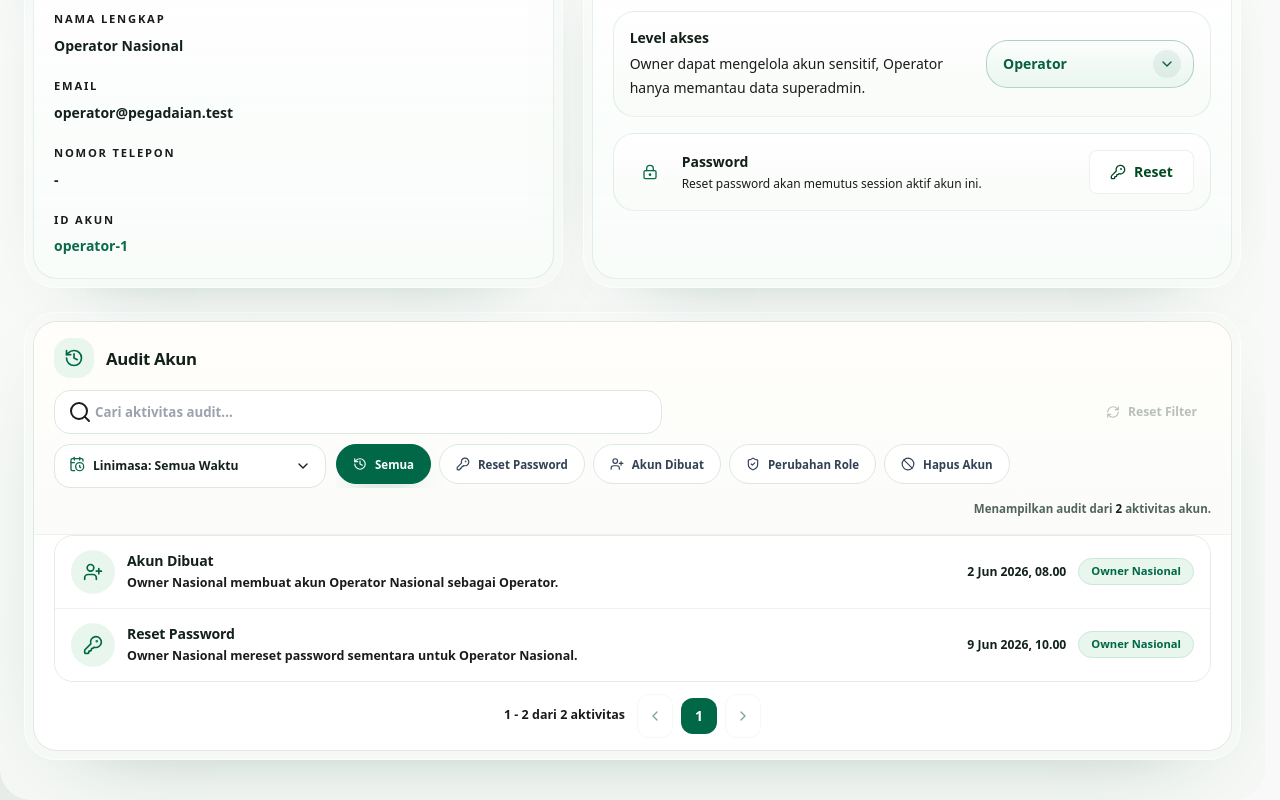
it: SuperAdminAccountWorkspace › renders account audit as a compact filterable list
The image size is (1280, 800).
(page scrolled)
Expected: the field with placeholder "Cari aktivitas audit..." is shown, [54, 390, 662, 434]
Expected: the text with class "whitespace-normal" shows "Linimasa:", [93, 458, 155, 474]
Click the button "Linimasa: Semua Waktu" at (190, 466), box [54, 444, 326, 488]
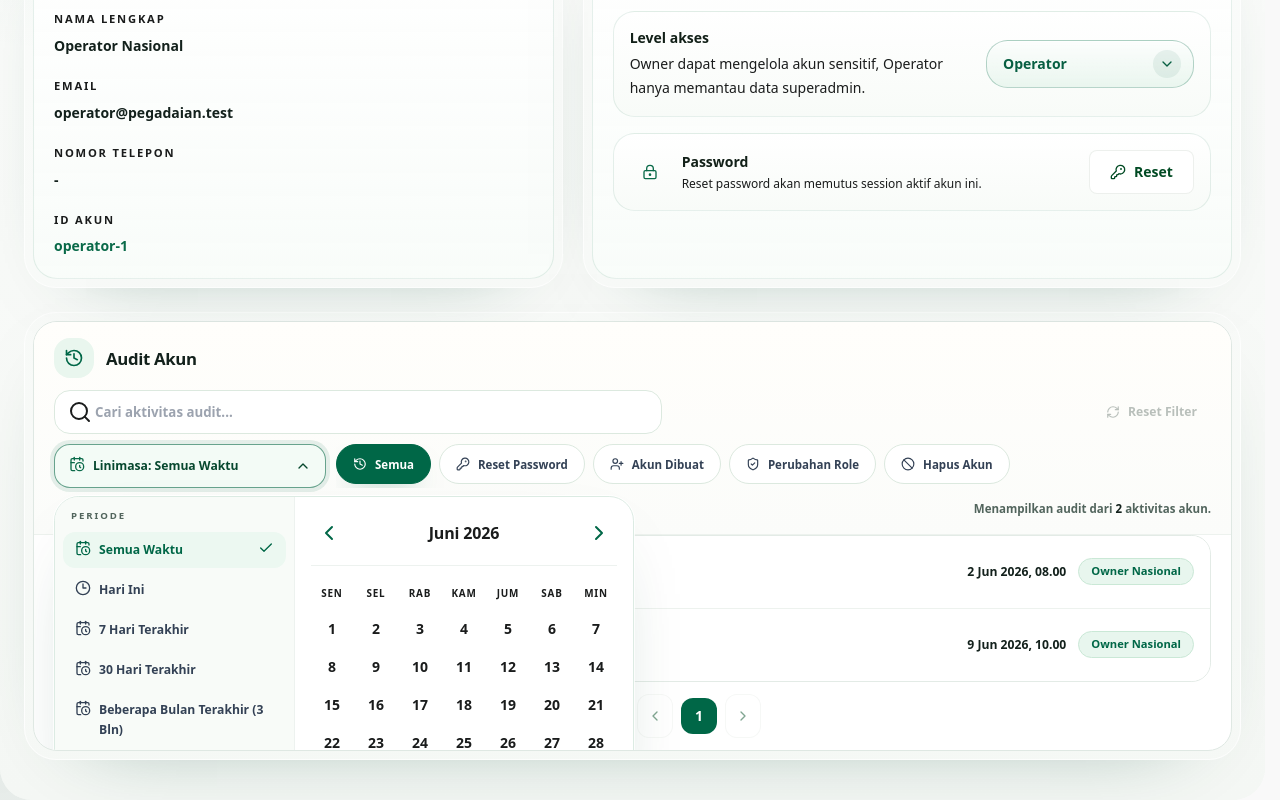
Now the button "7 Hari Terakhir" is shown, box [63, 612, 286, 648]
Now the button "30 Hari Terakhir" is shown, box [63, 652, 286, 688]
Press Escape
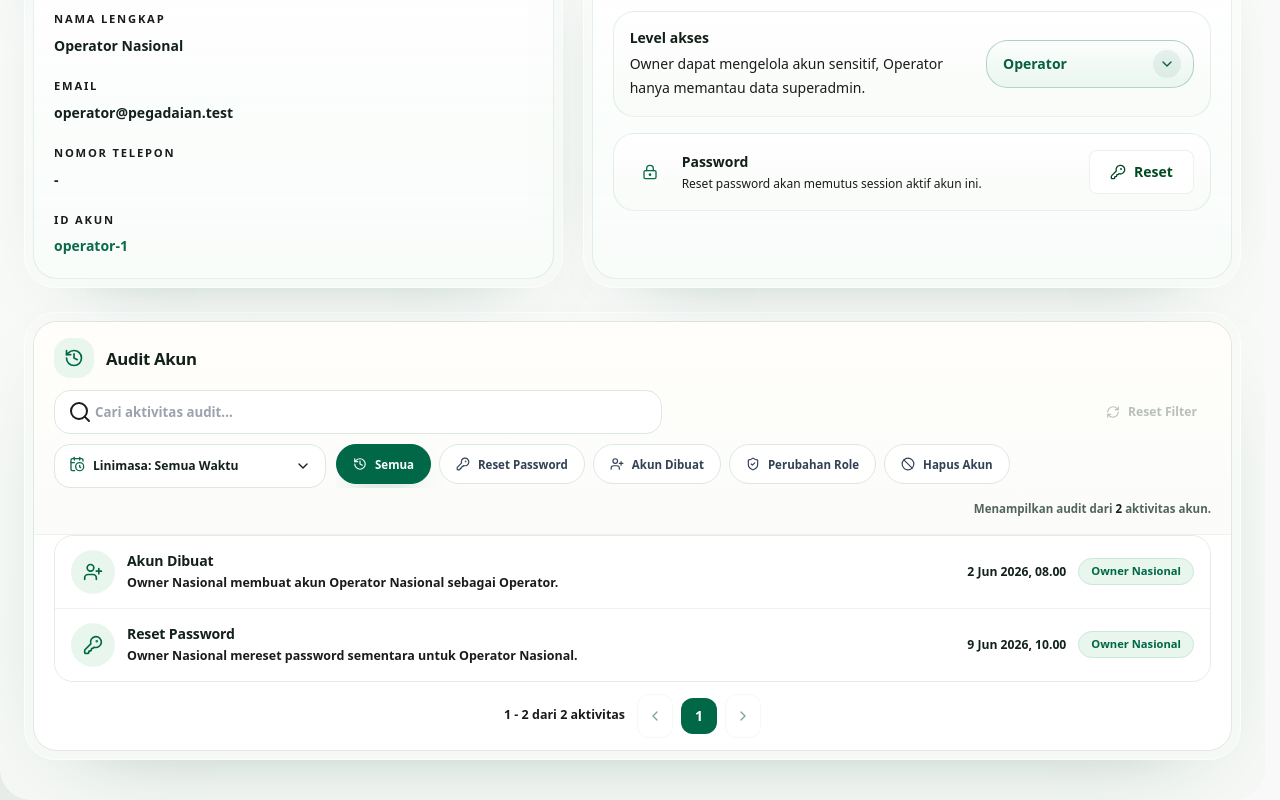
Click the button with aria-label "filter audit reset password" at (512, 464), box [439, 444, 585, 484]
(page scrolled)
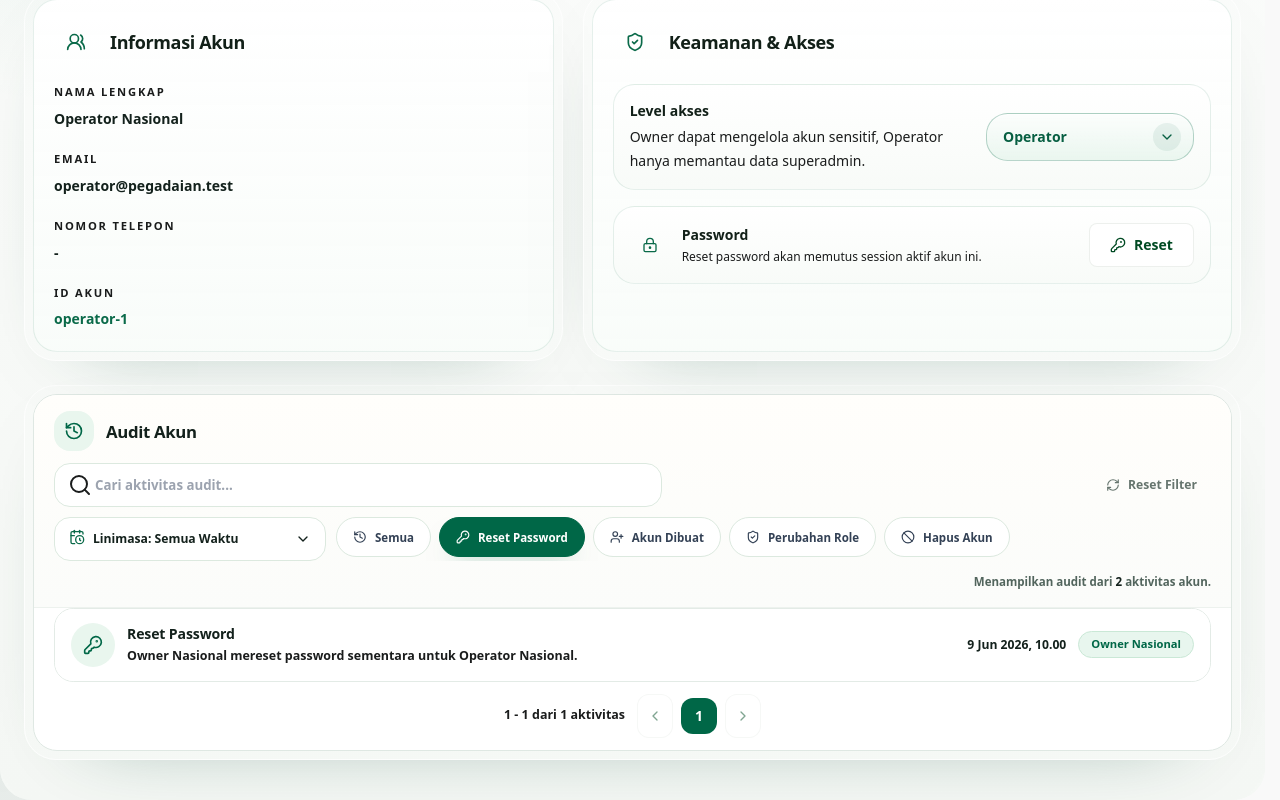
Expected: the text "mereset password sementara" is shown, [127, 647, 578, 664]
Now the text "membuat akun Operator Nasional" is gone
Now the text "1 - 1 dari 1 aktivitas" is shown, box [504, 706, 625, 725]
